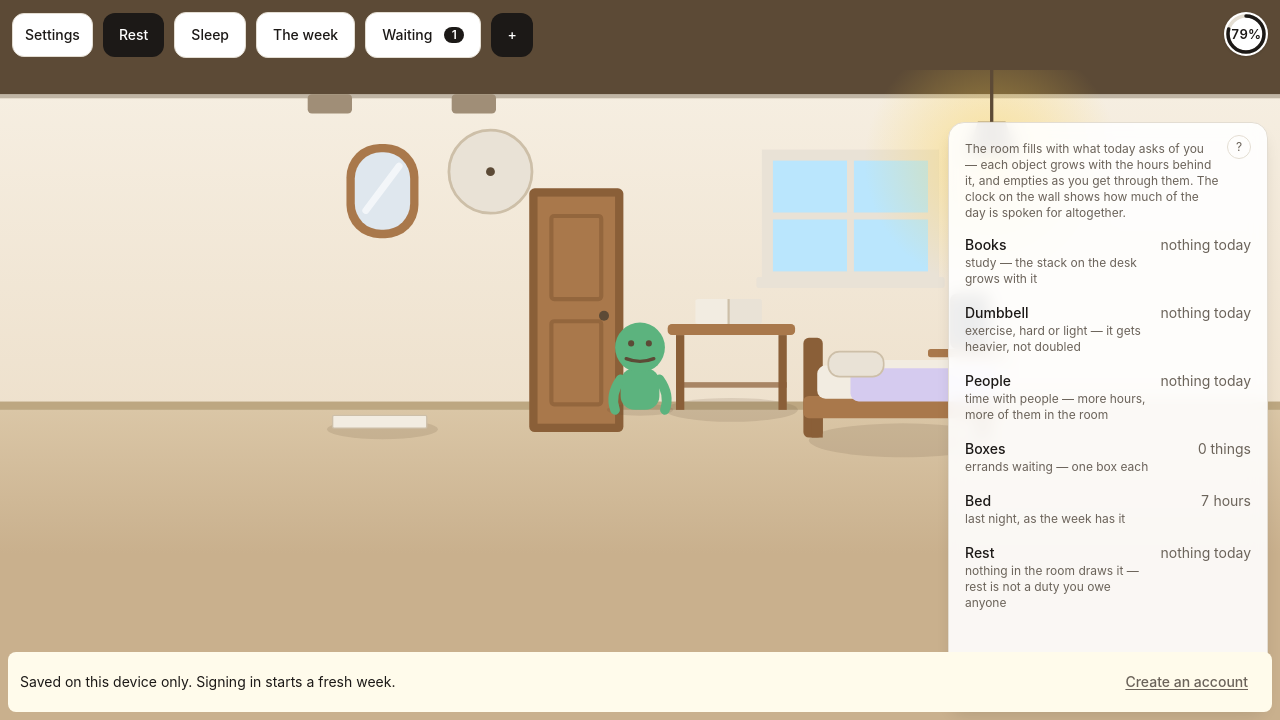
Test: what is still owed an answer › says when each one was, so a student knows which day they are answering for
Click the button with test id "open-notices": {"x": 423, "y": 35} [365,12,481,58]
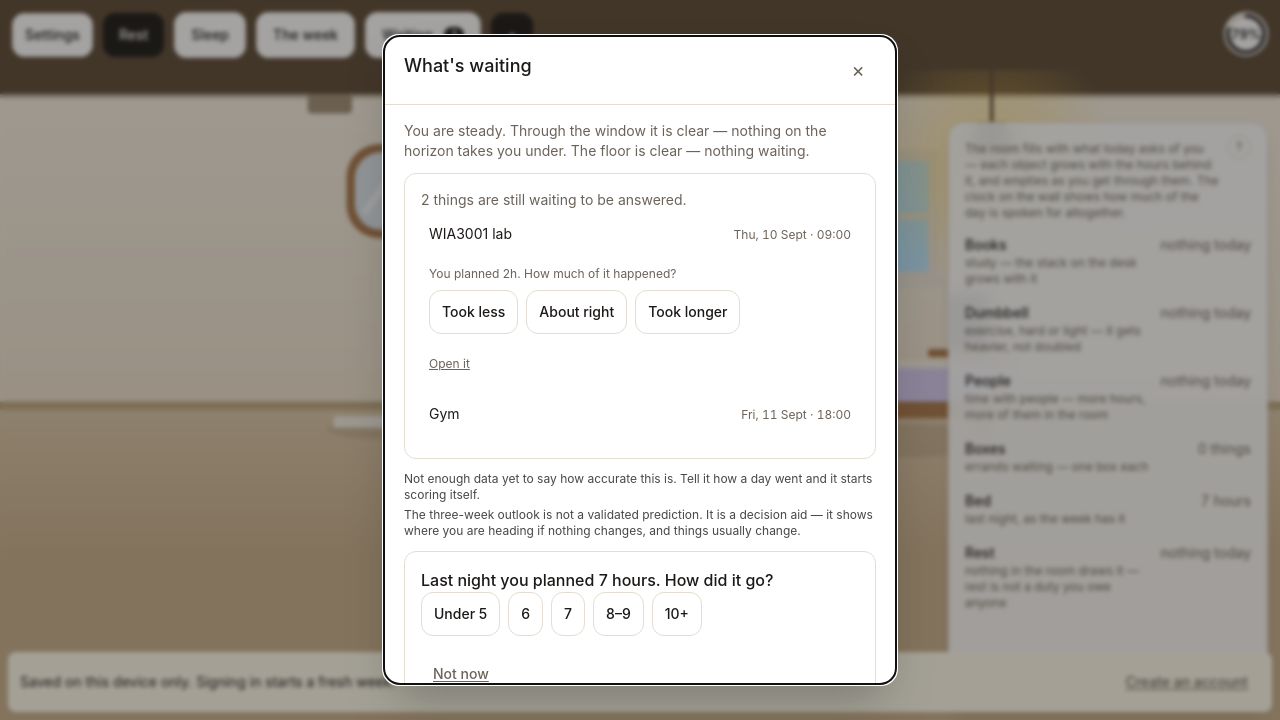
Result: the button with test id "pending-gym" shows "18:00" at [421,398,859,442]
